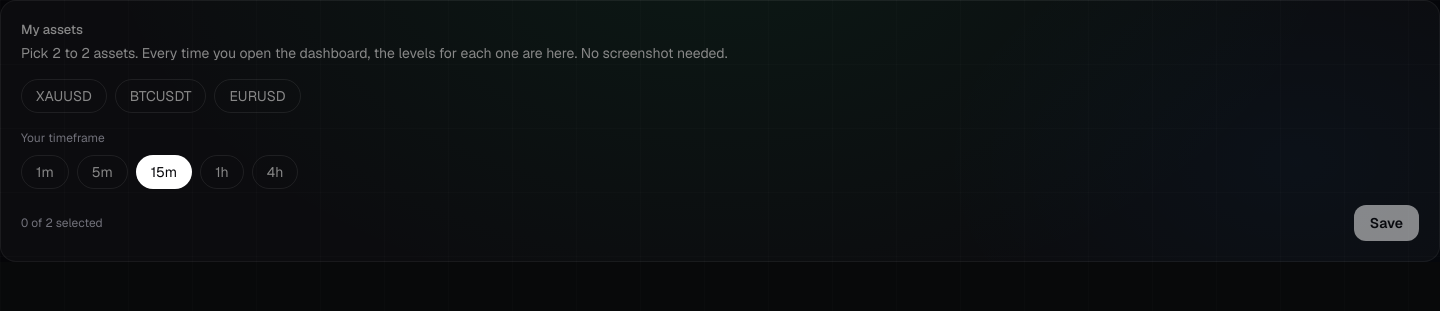
Test: MyAssets › erro ao salvar avisa e mantem a escolha
Click the button "XAUUSD" at x=64, y=96, box [21,79,107,113]
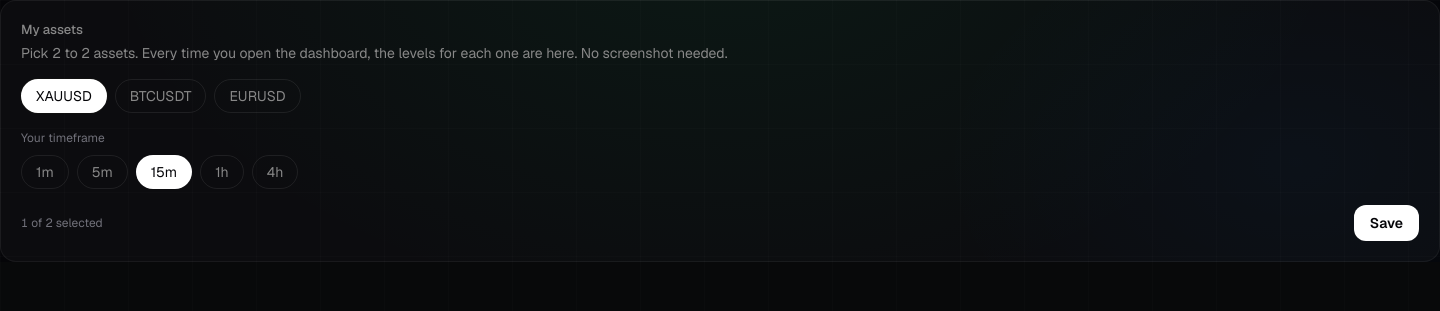
Click the button "Save" at x=1386, y=223, box [1354,205,1419,241]
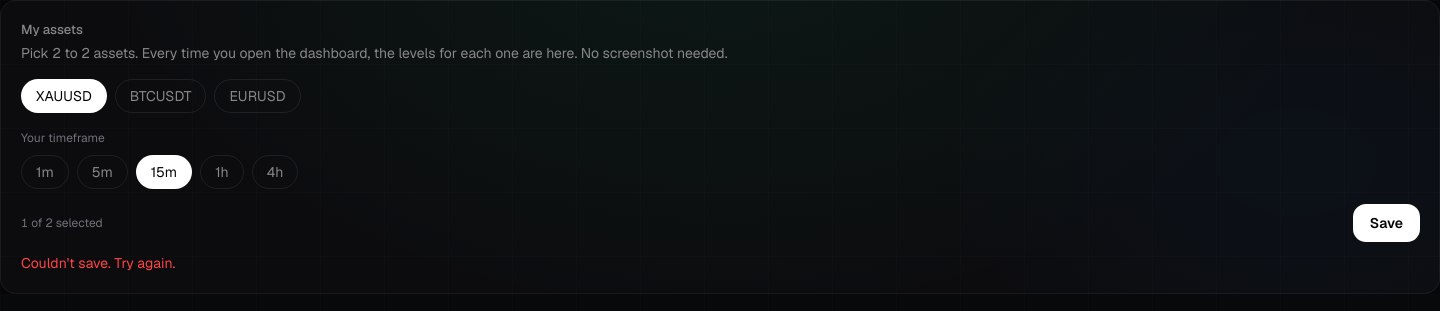
Now the message "Couldn't save. Try again." is shown, box [21,254,175,272]
